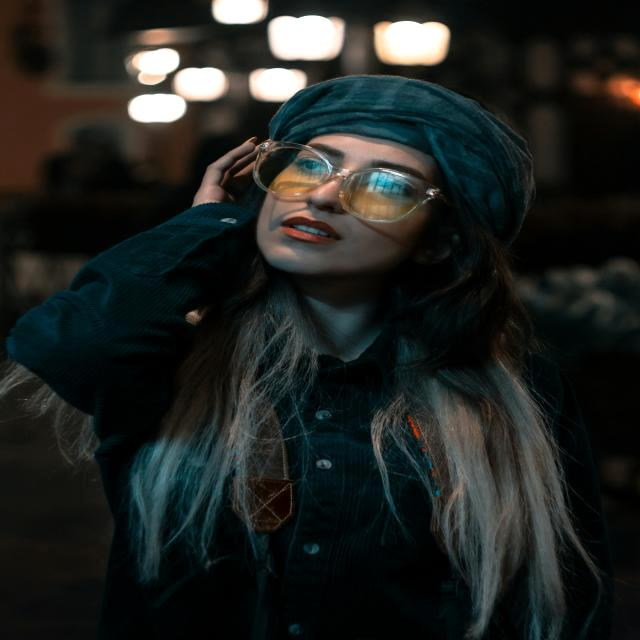no_hard_hat: (270, 75, 534, 245)
person: (8, 76, 612, 640)
